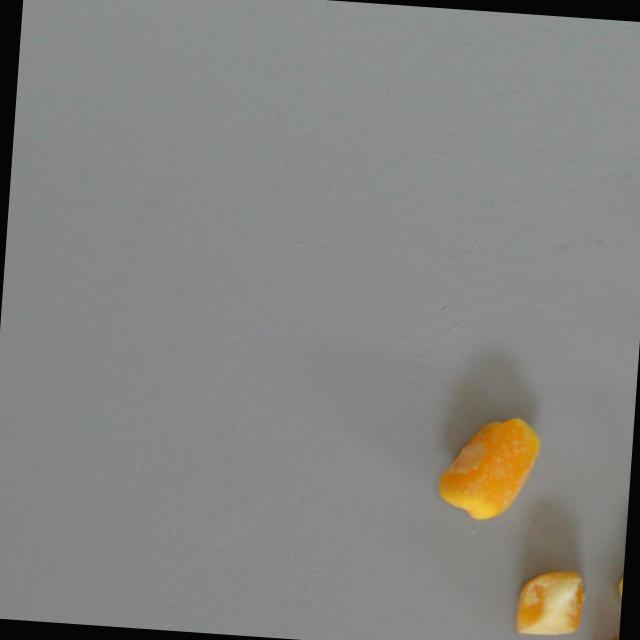pelicula: (436, 411, 543, 526), (514, 567, 588, 640), (586, 623, 619, 640)
